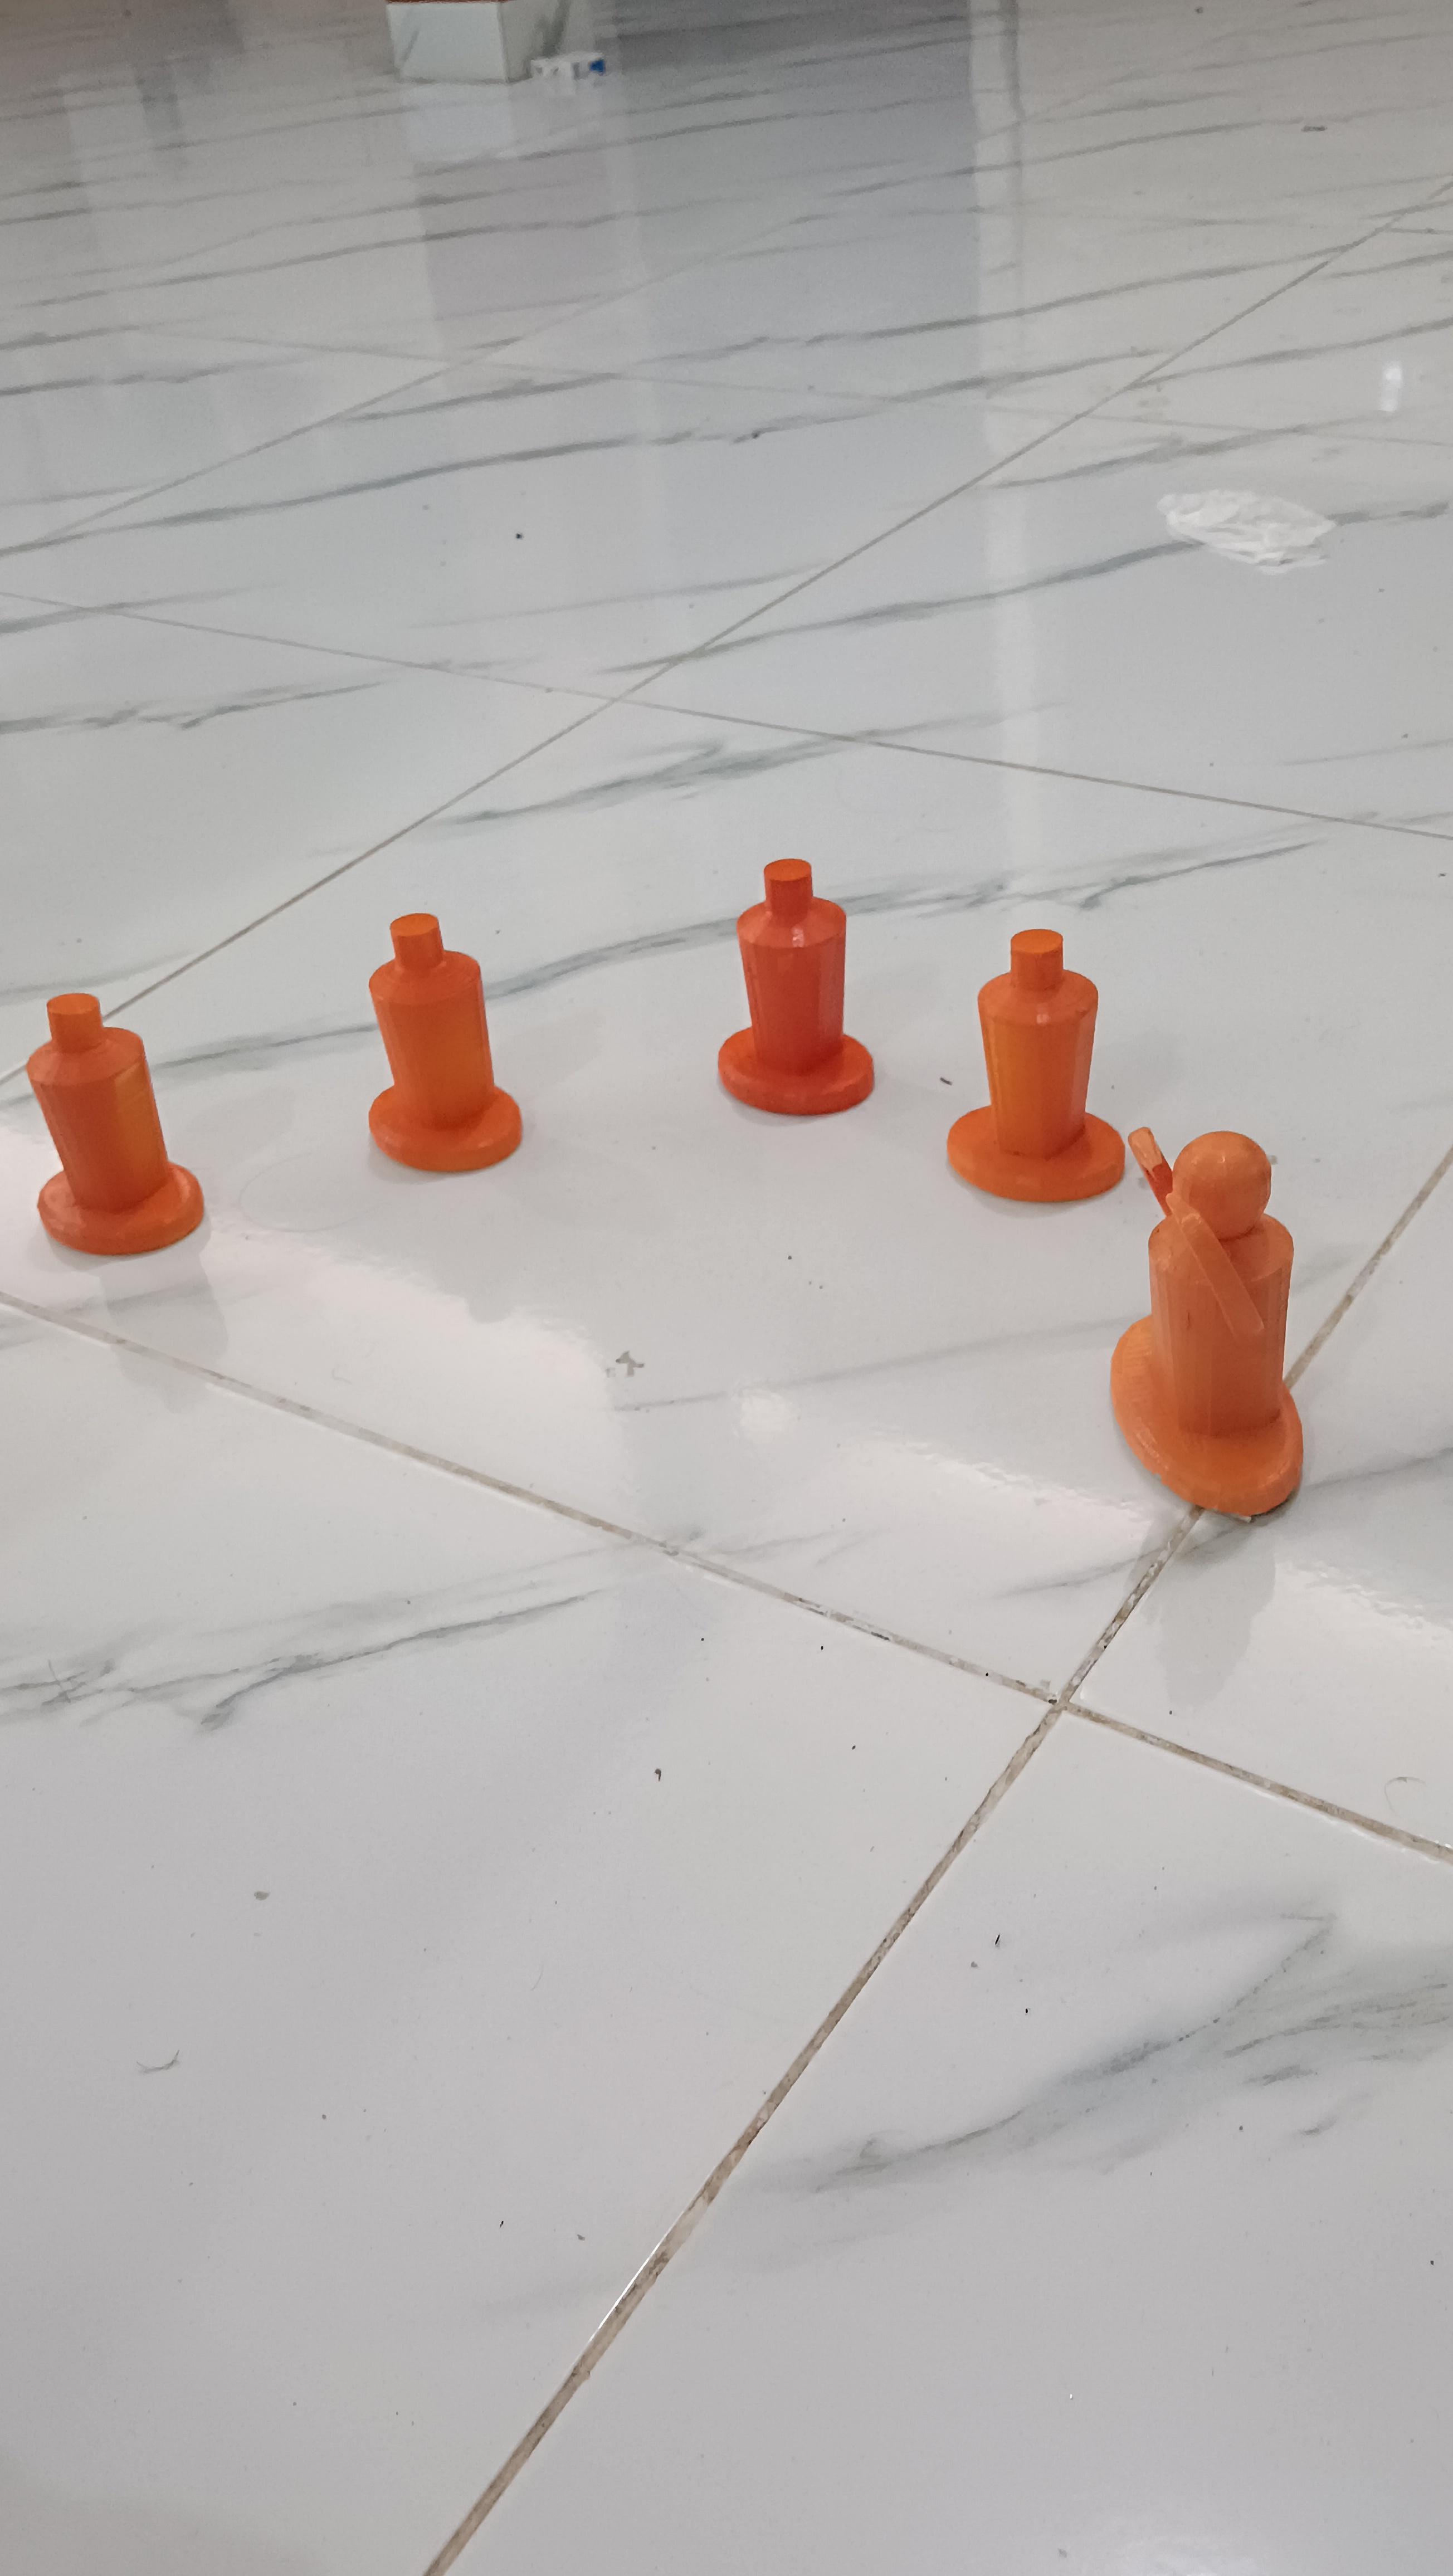dummy: (0, 983, 226, 1279), (694, 816, 893, 1139), (331, 889, 542, 1193), (936, 900, 1121, 1213)
real_person: (1104, 1111, 1343, 1546)
